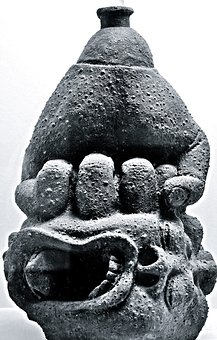fist: (17, 55, 208, 208)
